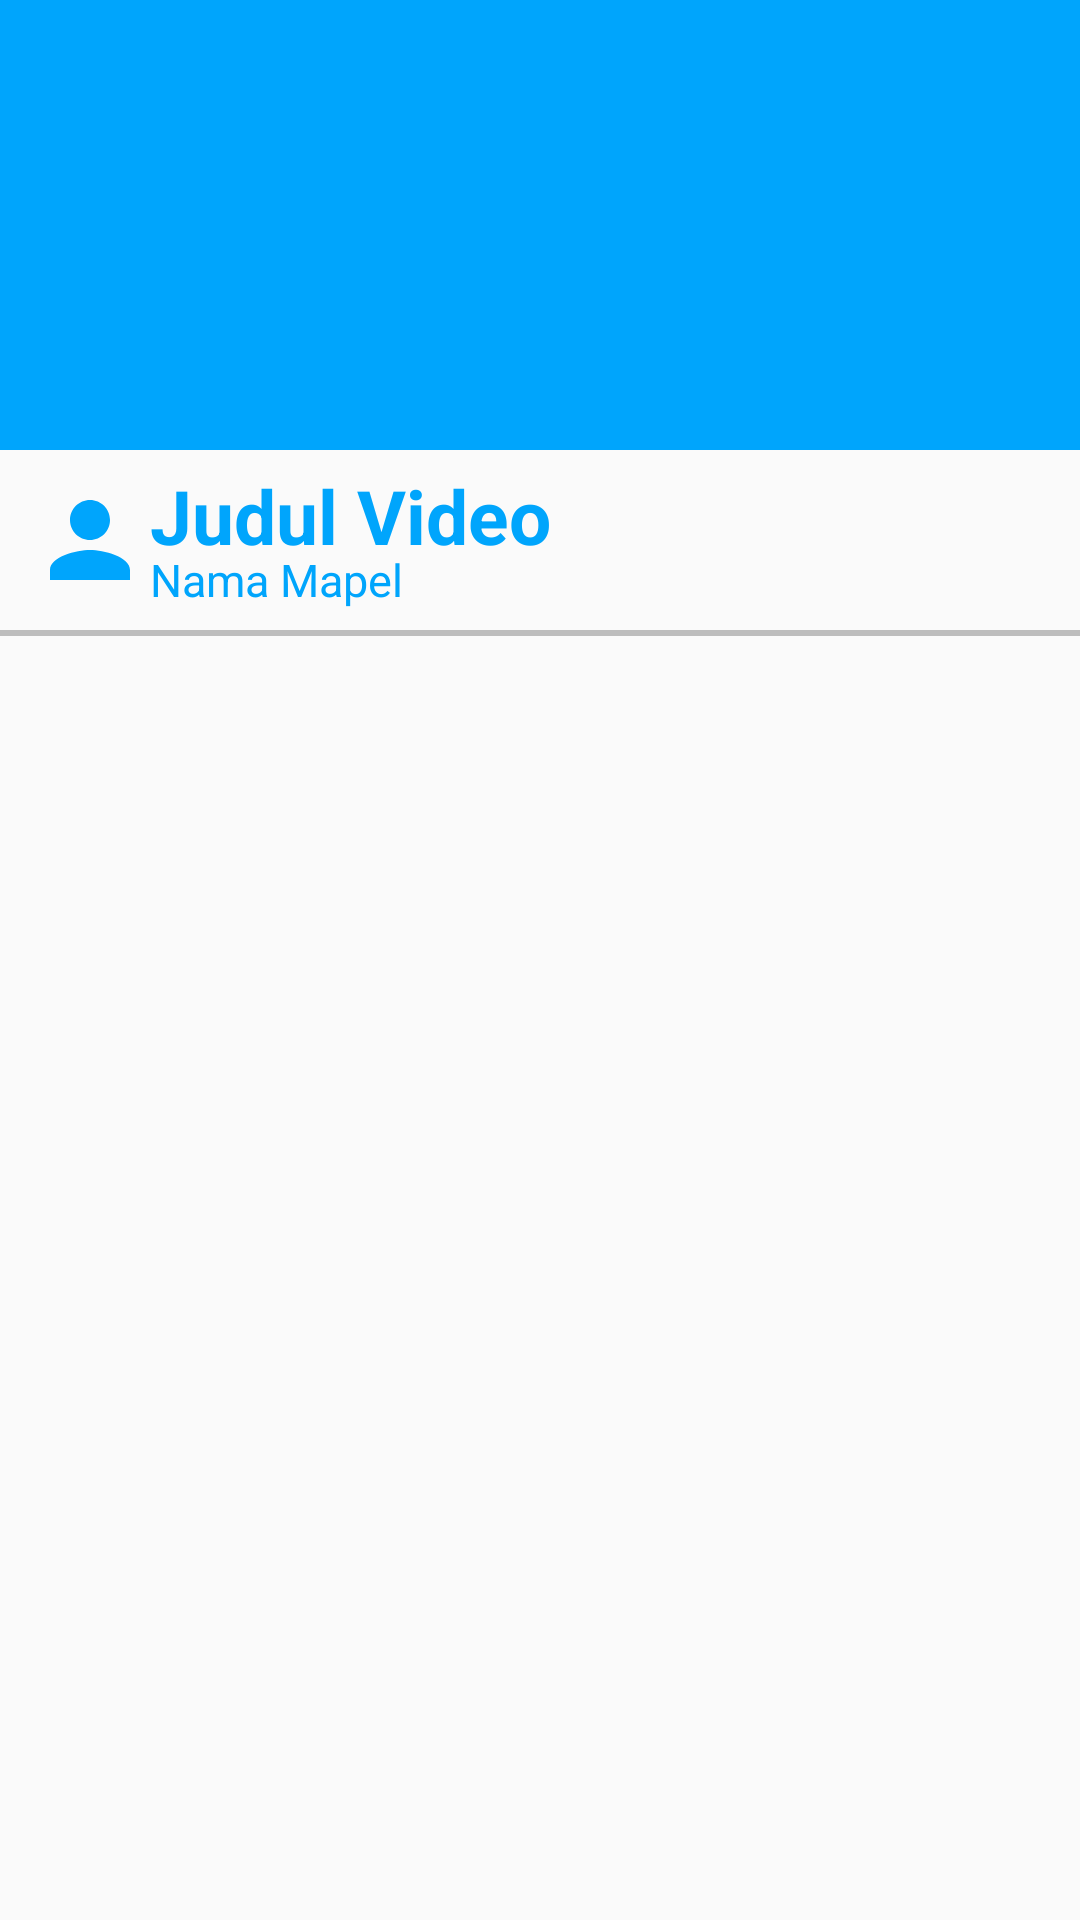

Icons on this 1080w x 1920h Android screen, each with its box as (x1=x1, y1=y1, x2=x2, y2=y2):
person: (x1=50, y1=500, x2=130, y2=580)
